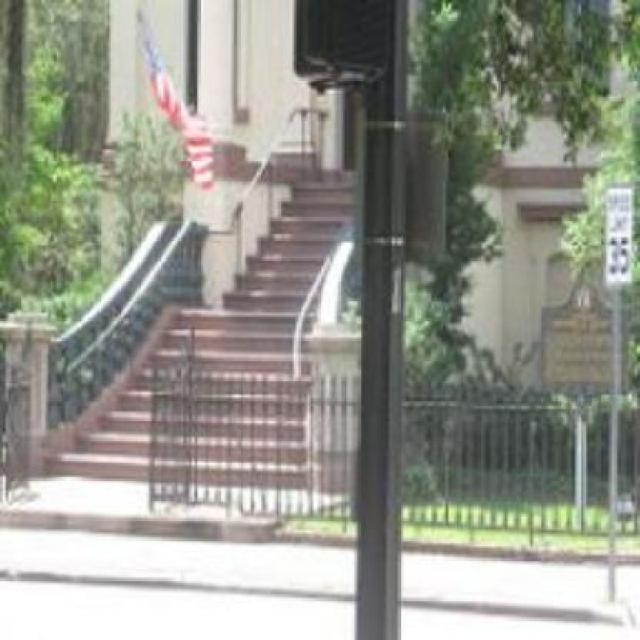stair: (64, 290, 338, 498)
